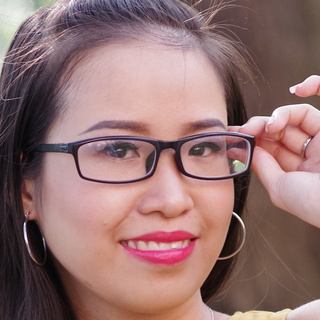eye: (185, 136, 228, 161), (96, 140, 142, 163)
